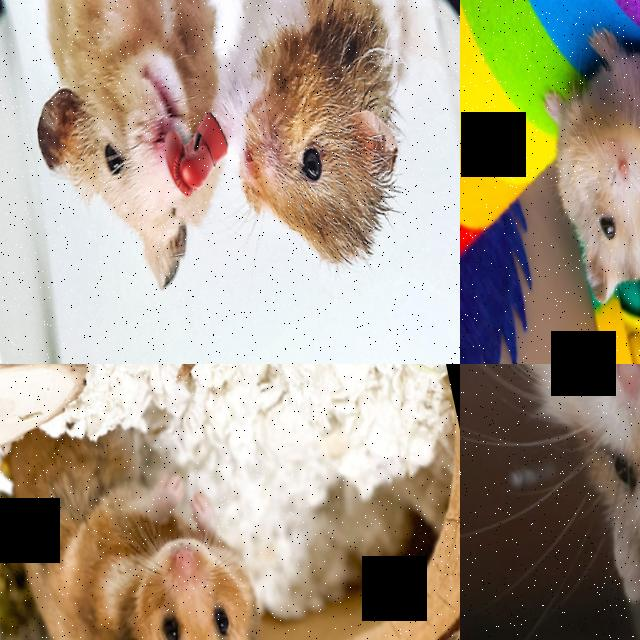hamster: (0, 0, 285, 310), (169, 0, 460, 283), (0, 394, 282, 640), (460, 364, 640, 627), (519, 5, 640, 309)
